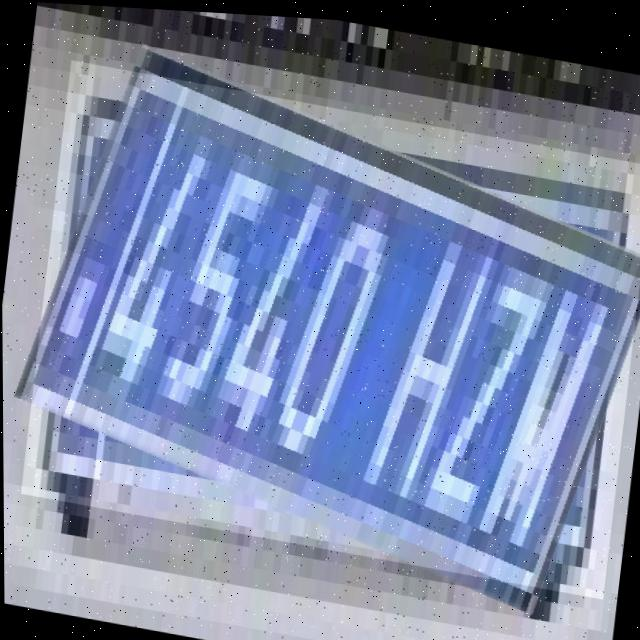LicensePlate: (17, 56, 640, 593)
